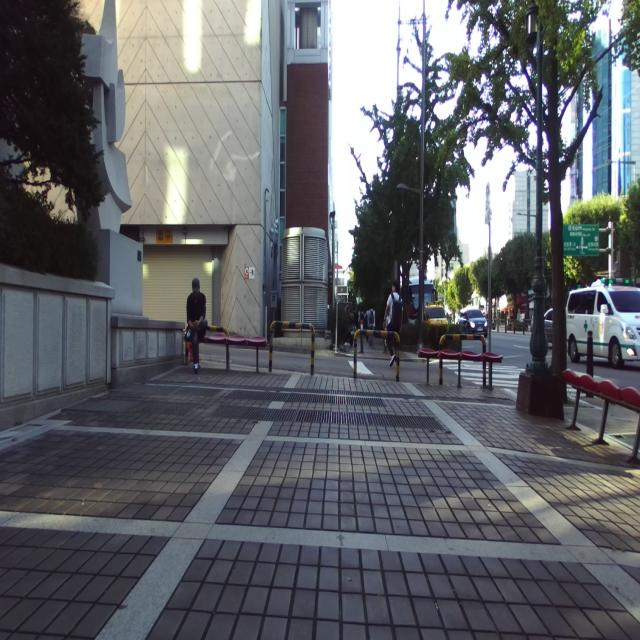횡단보도: (436, 362, 598, 398)
